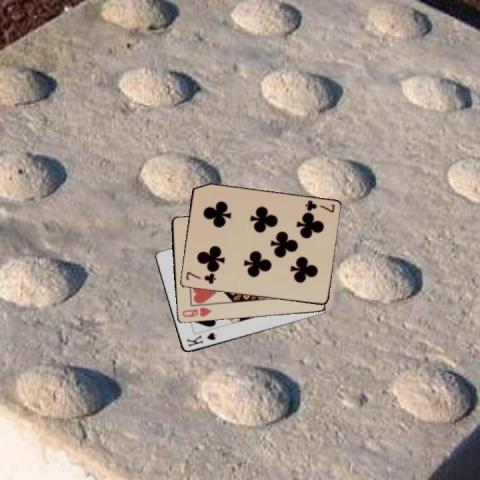7c: (302, 197, 336, 214), (183, 270, 217, 286)
Ks: (183, 329, 218, 349)
Qh: (178, 304, 212, 319)
